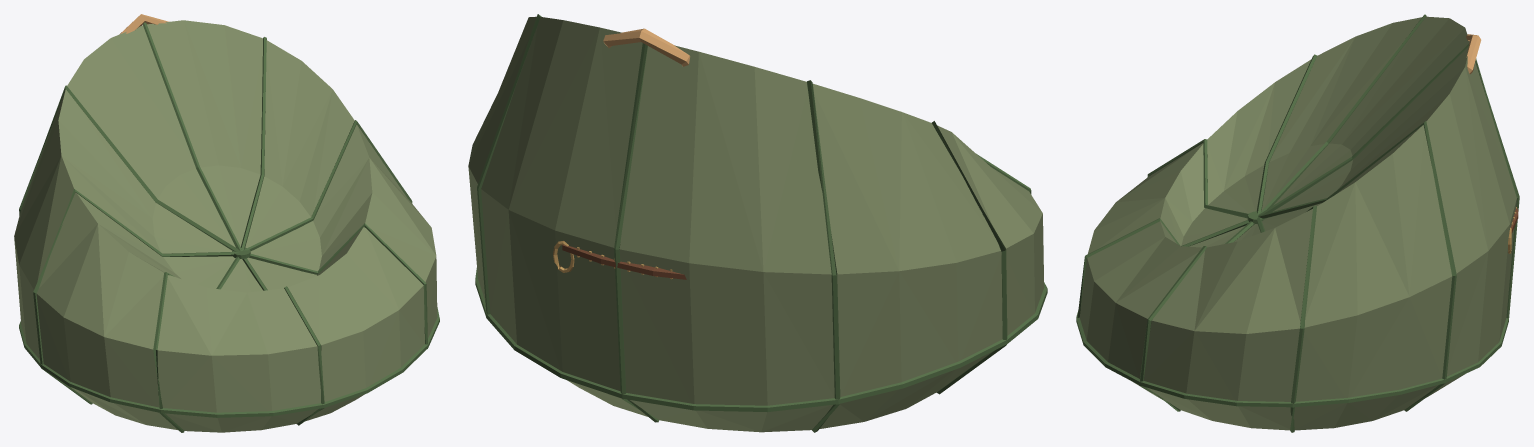
File: 006_beanbag_lounge_v01.glb
3 views of the same model, side by side, from view 1: azimuth 30°, elevation 25°; view 2: azimuth 150°, elevation 25°; view 3: azimuth 270°, elevation 25° (orthographic). The views are drawn at different scales.
Visible parts, largest first — view 1: 006 faceted sage beanbag with sunken seat, 006 lower upholstered welt, 006 stitched radial fabric seam 12, 006 stitched radial fabric seam 15, 006 stitched radial fabric seam 18, 006 stitched radial fabric seam 0, 006 stitched radial fabric seam 3, 006 stitched radial fabric seam 21, 006 stitched radial fabric seam 9, 006 stitched radial fabric seam 6; view 2: 006 faceted sage beanbag with sunken seat, 006 lower upholstered welt, 006 stitched radial fabric seam 18, 006 stitched radial fabric seam 15, 006 stitched radial fabric seam 21, 006 stitched radial fabric seam 12, 006 rear cloth carrying loop, 006 short rear zipper; view 3: 006 faceted sage beanbag with sunken seat, 006 lower upholstered welt, 006 stitched radial fabric seam 21, 006 stitched radial fabric seam 18, 006 stitched radial fabric seam 0, 006 stitched radial fabric seam 15, 006 stitched radial fabric seam 3, 006 stitched radial fabric seam 6, 006 stitched radial fabric seam 12, 006 stitched radial fabric seam 9.
Part boxes in pixels (box(x1,y1,x2,y2)): 006 faceted sage beanbag with sunken seat: box(14, 20, 437, 432); 006 lower upholstered welt: box(19, 307, 439, 417); 006 stitched radial fabric seam 12: box(33, 189, 238, 404); 006 stitched radial fabric seam 15: box(19, 85, 240, 251); 006 stitched radial fabric seam 18: box(143, 22, 241, 250); 006 stitched radial fabric seam 0: box(244, 120, 412, 250); 006 stitched radial fabric seam 3: box(249, 223, 427, 348); 006 stitched radial fabric seam 21: box(241, 37, 266, 250); 006 stitched radial fabric seam 9: box(153, 257, 239, 432); 006 stitched radial fabric seam 6: box(242, 258, 324, 425); 006 faceted sage beanbag with sunken seat: box(468, 16, 1044, 432); 006 lower upholstered welt: box(475, 268, 1047, 412); 006 stitched radial fabric seam 18: box(614, 43, 659, 422); 006 stitched radial fabric seam 15: box(807, 80, 840, 432); 006 stitched radial fabric seam 21: box(477, 14, 541, 314); 006 stitched radial fabric seam 12: box(932, 121, 1007, 394); 006 rear cloth carrying loop: box(603, 28, 690, 66); 006 short rear zipper: box(562, 244, 686, 279); 006 faceted sage beanbag with sunken seat: box(1079, 16, 1516, 430); 006 lower upholstered welt: box(1076, 311, 1508, 407); 006 stitched radial fabric seam 21: box(1258, 121, 1456, 411); 006 stitched radial fabric seam 18: box(1258, 43, 1519, 318); 006 stitched radial fabric seam 0: box(1257, 205, 1316, 432); 006 stitched radial fabric seam 15: box(1258, 14, 1426, 214); 006 stitched radial fabric seam 3: box(1139, 221, 1254, 411); 006 stitched radial fabric seam 6: box(1077, 218, 1249, 317); 006 stitched radial fabric seam 12: box(1257, 54, 1317, 214); 006 stitched radial fabric seam 9: box(1147, 139, 1248, 218).
Size of the model in its own units: 1.02 by 0.7605 by 0.9401.
